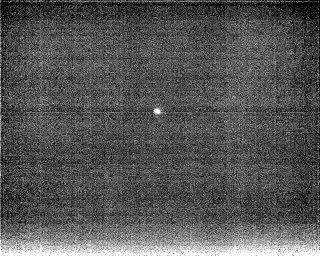AIRPLANE: (152, 106, 163, 117)
